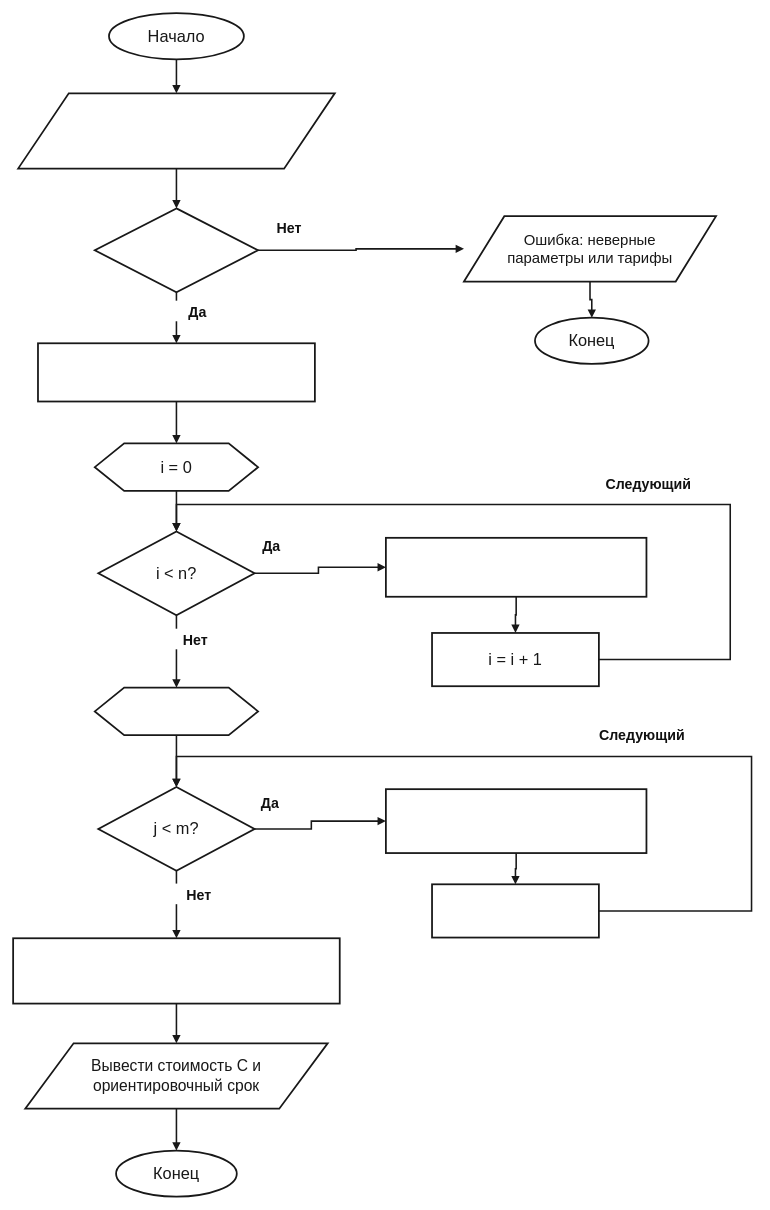
This 770x1210 diagram has some shape labels left out. Here are the shapes that lost their labels. From the top down, the centre of each, then its label:
the point at 176,130: Ввести заказ, ресурсы, их время и тарифы
the point at 176,250: Входные данные корректны?
the point at 176,372: Начальная стоимость: C = d · p
the point at 516,567: C = C + hᵢ · rᵢ (стоимость работы сотрудника)
the point at 176,711: j = 0
the point at 516,821: C = C + tⱼ · qⱼ (стоимость оборудования)
the point at 515,910: j = j + 1
the point at 176,970: Определить срок: конец съёмки + норматив обработки(d, формат)
